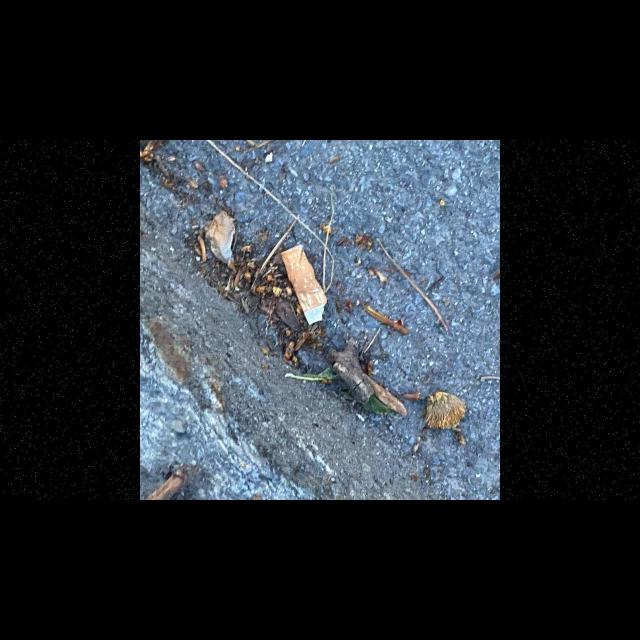cigarette: (280, 244, 328, 325)
